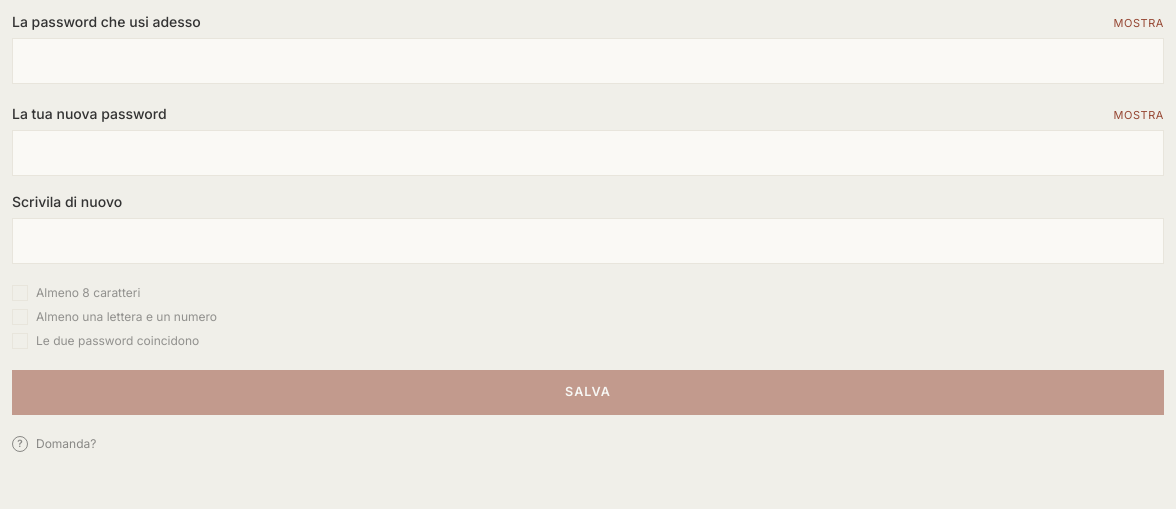
ChangePasswordForm — errore di signIn dopo il salvataggio › un blocco per troppi tentativi viene mostrato integrale, non un redirect silenzioso
Type "Vecchia123" into the password field labelled "La password che usi adesso" at (588, 61), box [12,38,1164,84]
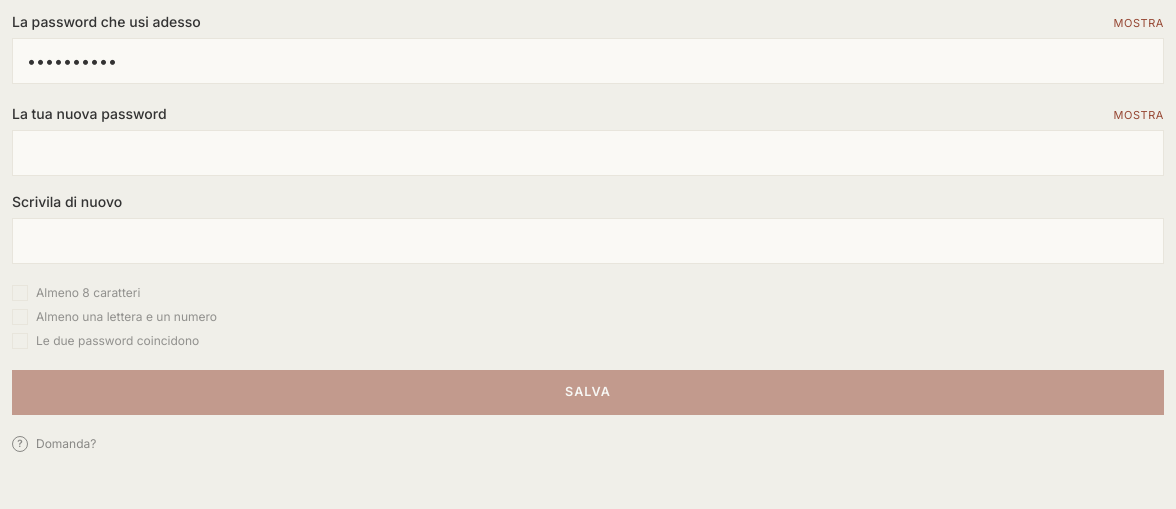
Type "Password123" into the password field labelled "La tua nuova password" at (588, 153), box [12,130,1164,176]
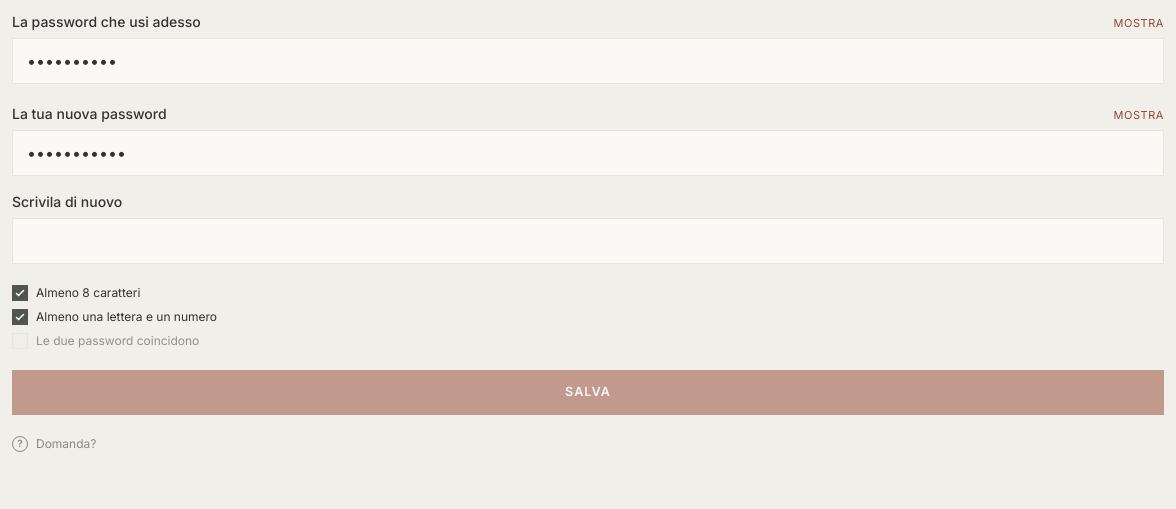
Type "Password123" into the password field labelled "Scrivila di nuovo" at (588, 241), box [12,218,1164,264]
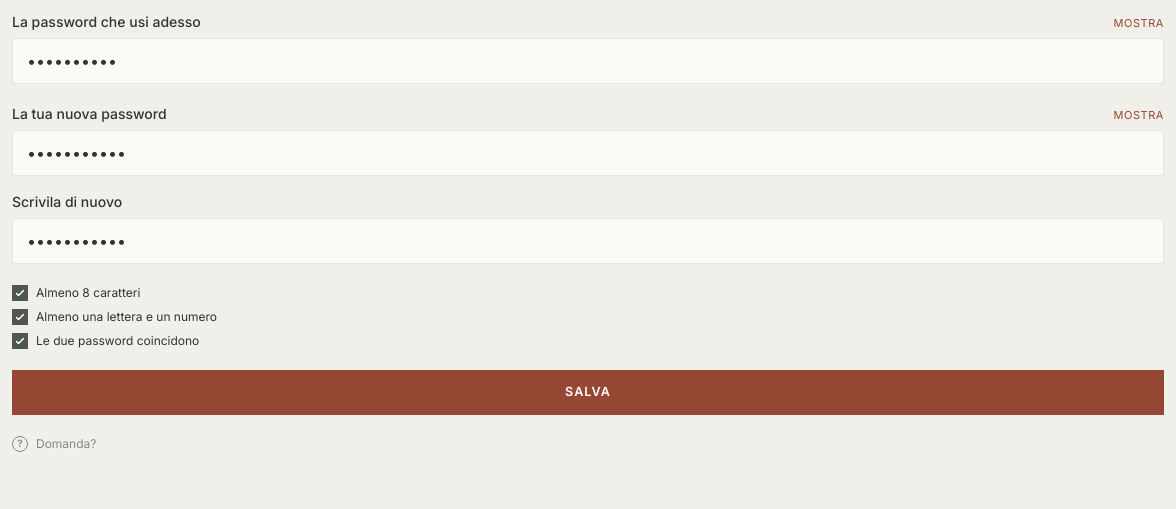
Click the button "Salva" at (588, 392), box [12,370,1164,415]
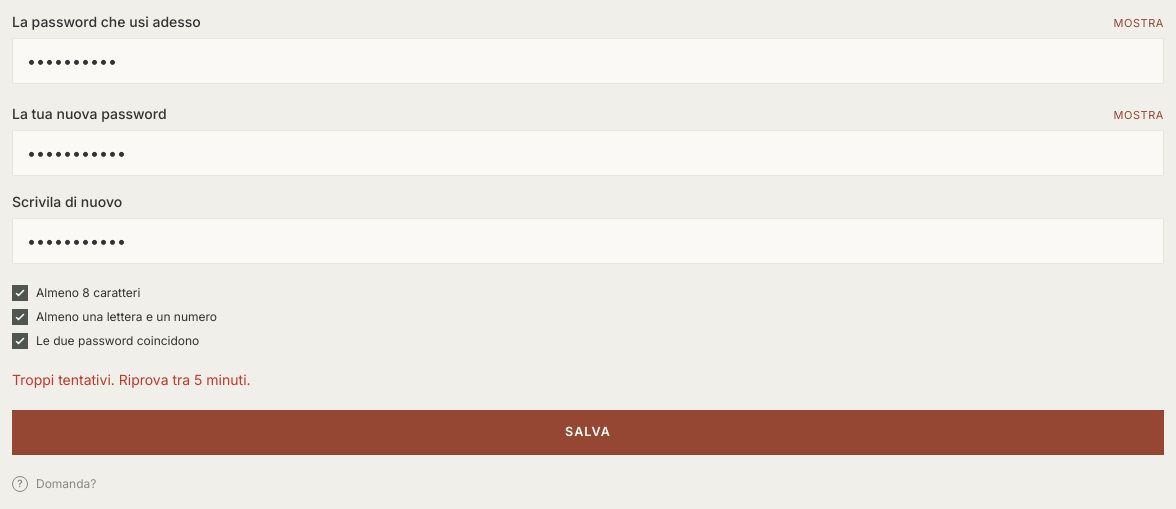
expect the text "Troppi tentativi. Riprova tra 5 minuti." is shown: met, box [12,371,251,388]
